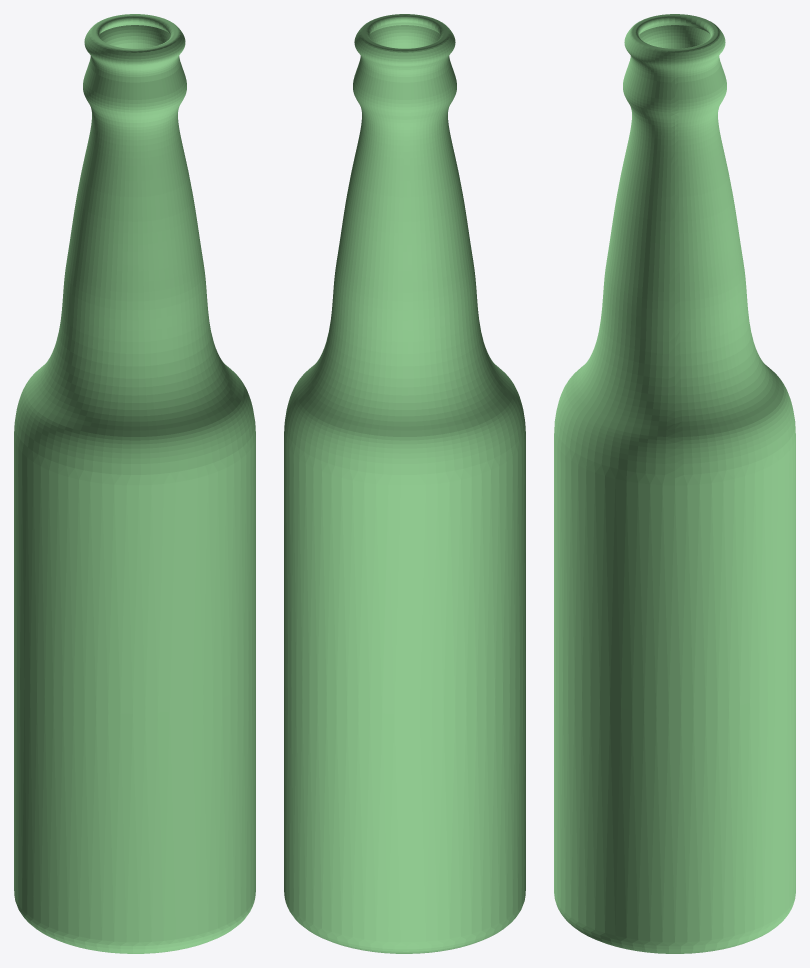
Rendered from bottle.glb.
The picture shows the model from 3 angles, left to right: view 1: azimuth 30°, elevation 25°; view 2: azimuth 150°, elevation 25°; view 3: azimuth 270°, elevation 25°; orthographic projection.
Visible parts, largest first — view 1: Node1; view 2: Node1; view 3: Node1.
Part boxes in pixels (bbox=[...]): Node1: bbox=[14, 14, 255, 953]; Node1: bbox=[284, 14, 525, 953]; Node1: bbox=[554, 14, 795, 953].
Size of the model in its own units: 12.5 by 50 by 12.5.
